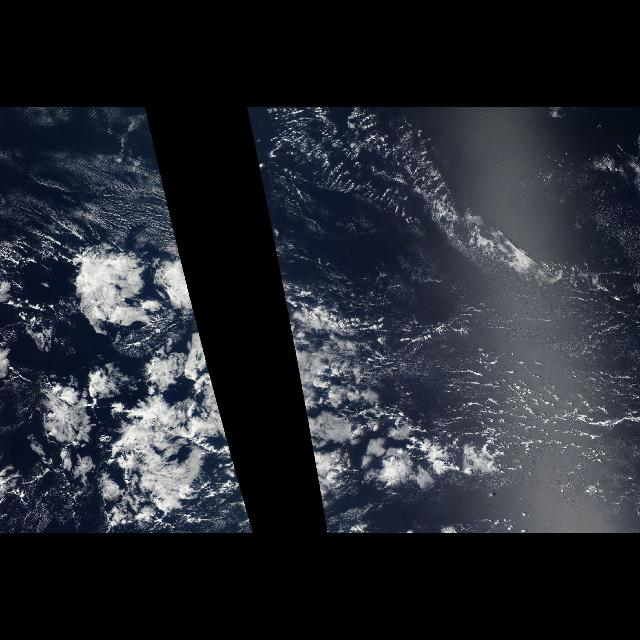Flower: (9, 240, 251, 520), (271, 240, 485, 520)
Gravel: (372, 294, 634, 460)
Sugar: (449, 293, 633, 527), (246, 111, 484, 245), (3, 110, 180, 246)
